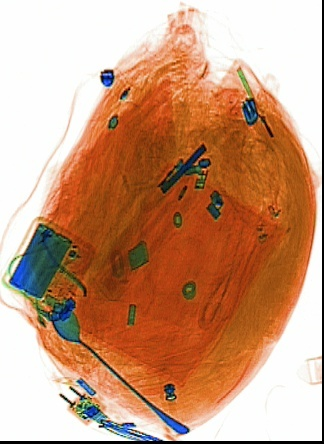powerbank: (1, 216, 97, 317)
